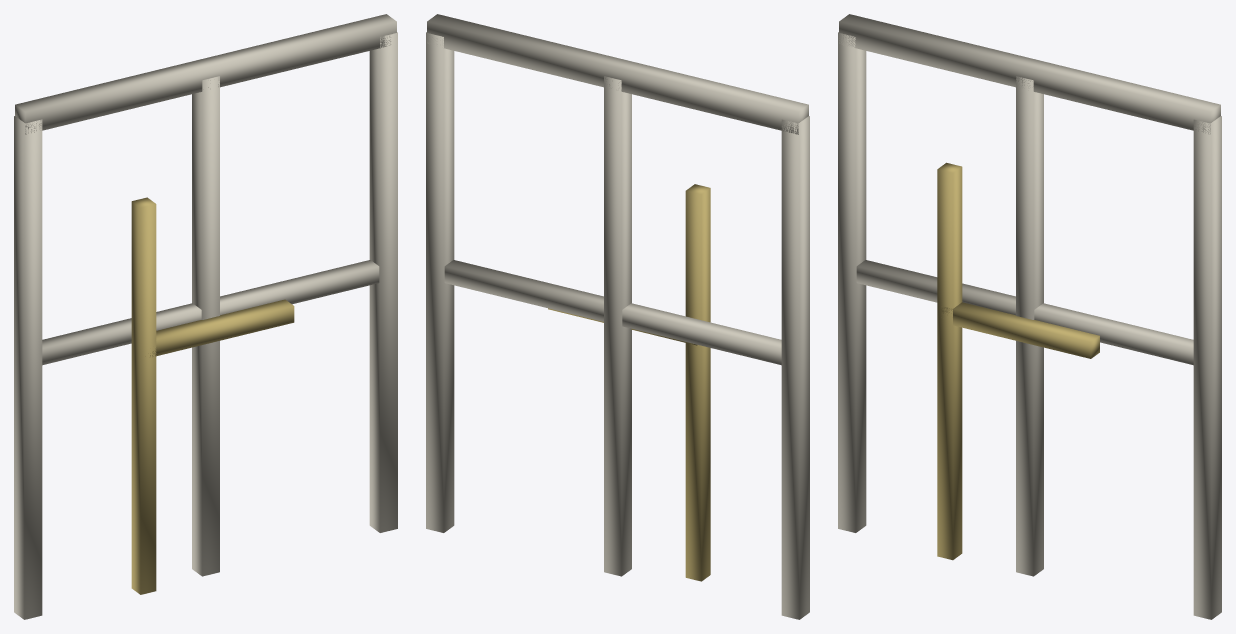
The model's file is civic_gate_l90_h120.glb.
3 renders of one model, left to right at view 1: azimuth 30°, elevation 25°; view 2: azimuth 150°, elevation 25°; view 3: azimuth 330°, elevation 25°, orthographic.
Visible parts, largest first — view 1: world; view 2: world; view 3: world.
Part boxes in pixels (x1=…): world: x1=14, y1=14, x2=397, y2=619; world: x1=426, y1=14, x2=809, y2=619; world: x1=838, y1=14, x2=1221, y2=619.
Size of the model in its own units: 0.945 by 1.23 by 0.0825.
